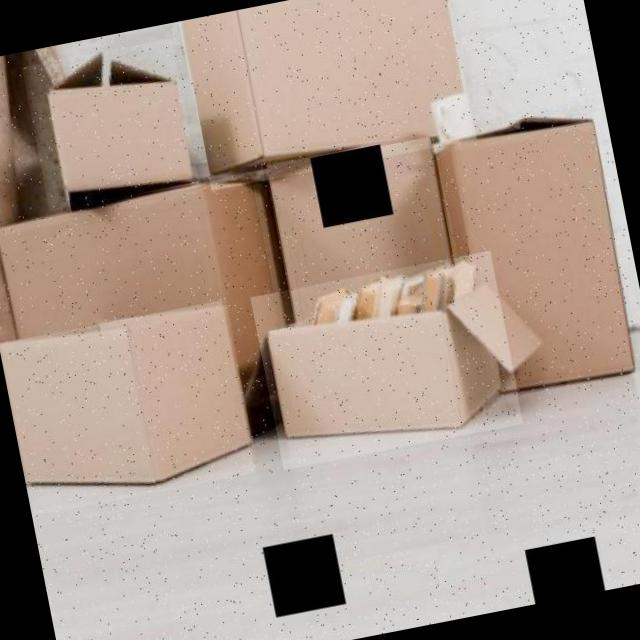box: (0, 177, 289, 424), (433, 104, 640, 402), (251, 251, 524, 470), (179, 0, 476, 190), (1, 300, 256, 516), (253, 132, 464, 341), (22, 39, 199, 213)
